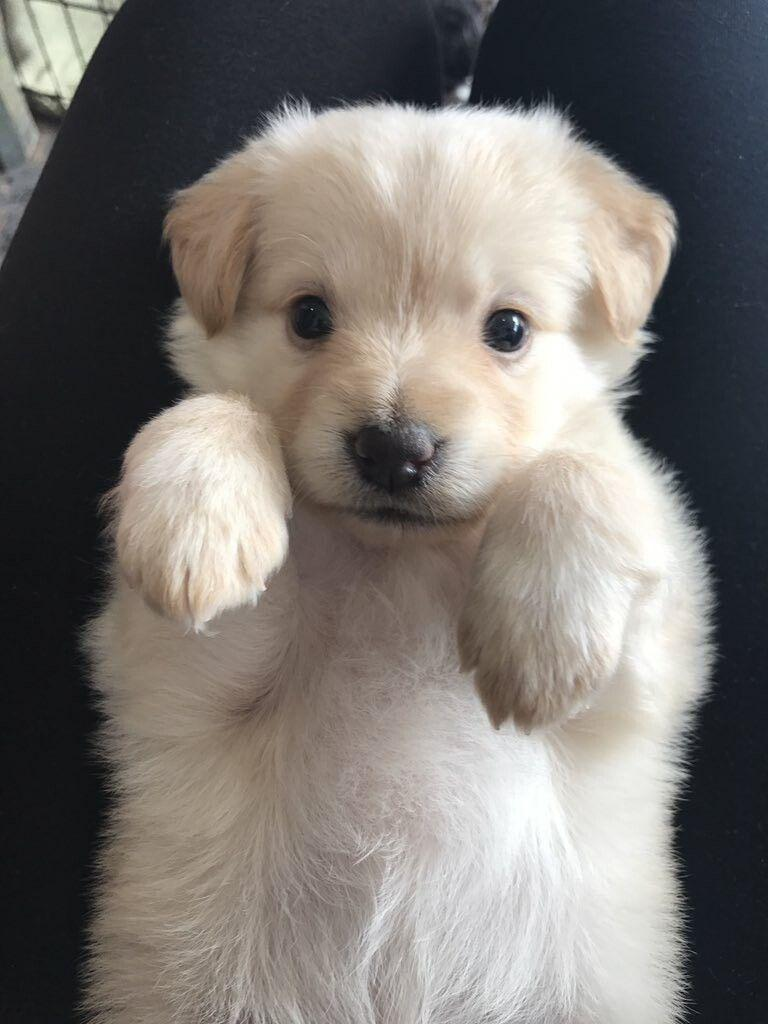puppy-dog: (71, 86, 729, 1024)
